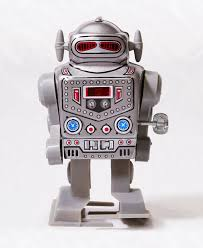backpack: (132, 64, 162, 125)
cell phone: (84, 197, 117, 211)
frisbee: (66, 23, 130, 65)
laptop: (84, 157, 114, 212)
parking meter: (54, 62, 154, 176)
person: (38, 21, 161, 158), (36, 50, 68, 168), (38, 76, 62, 168)
traffic light: (127, 53, 163, 164), (148, 112, 167, 132)
